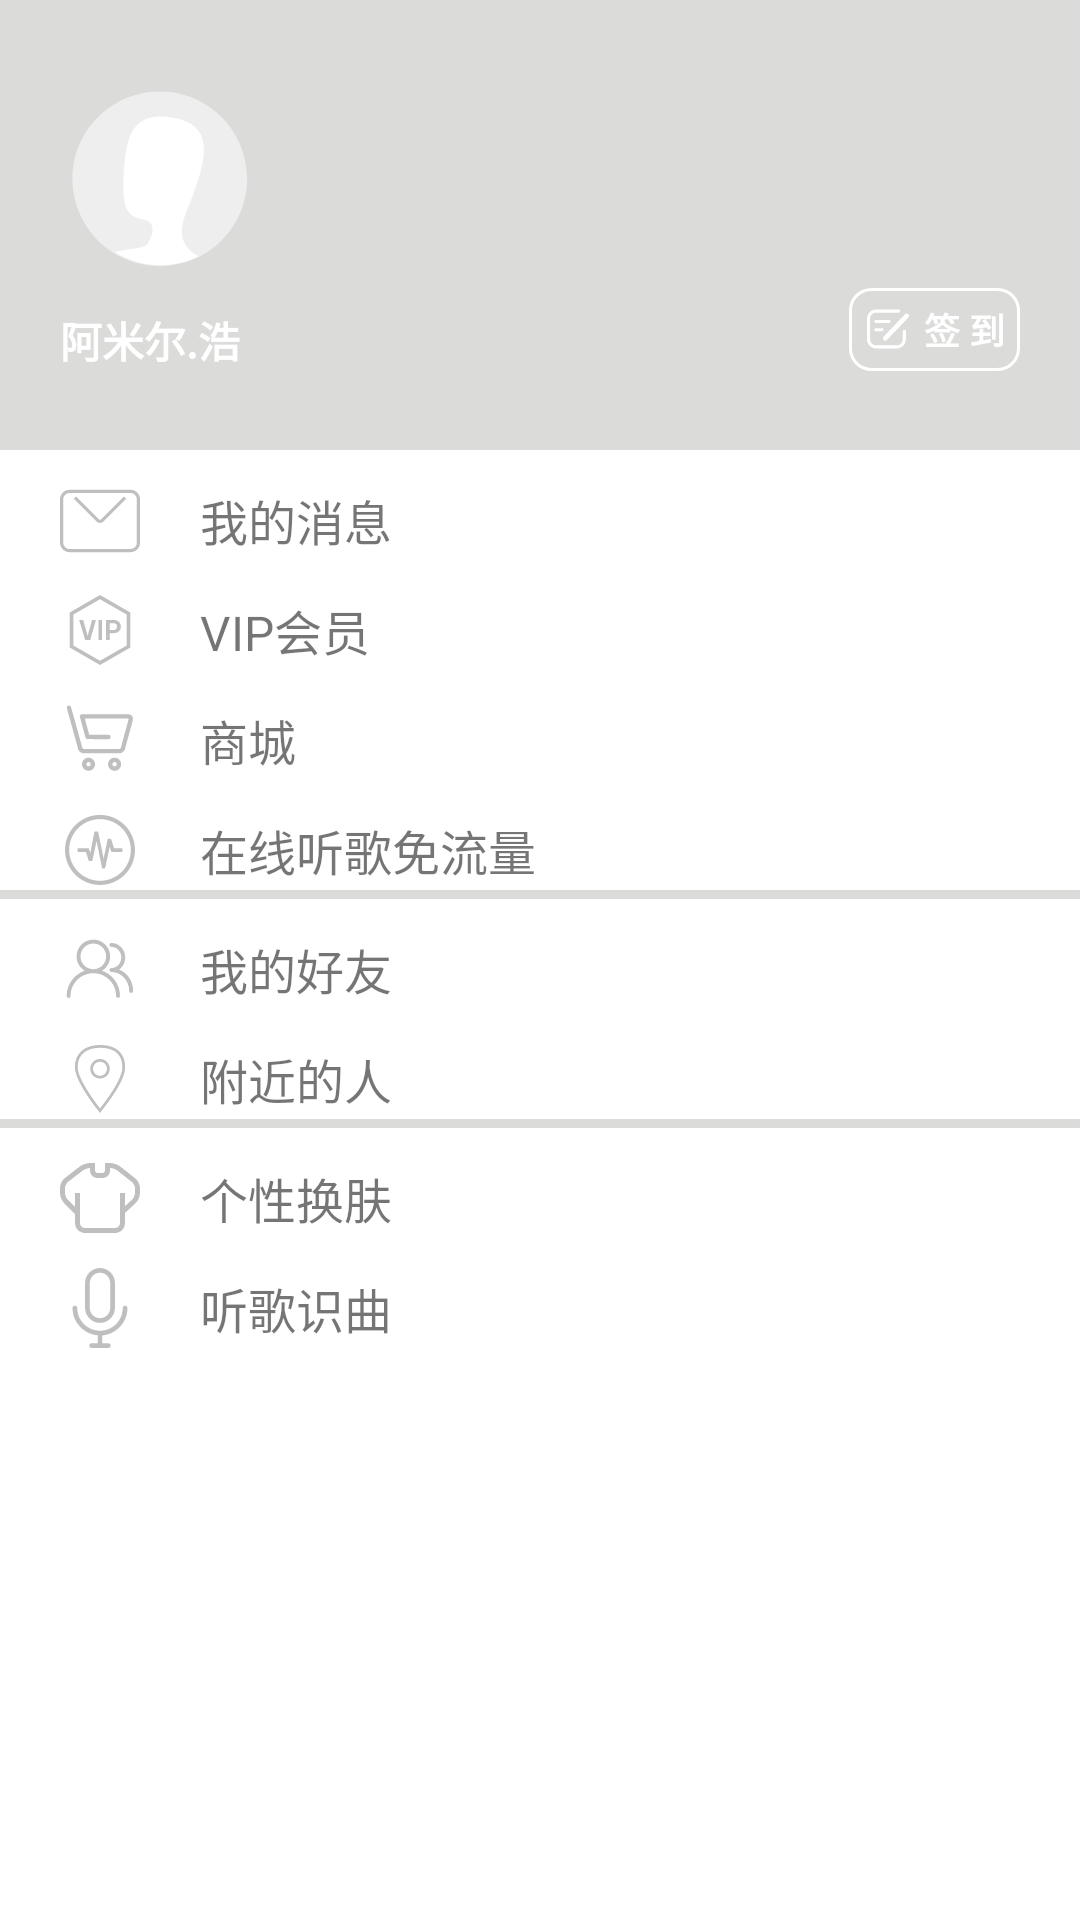

Locate icon controls on the screen. Image size 1080x1920, boxes as (left=x1, top=y1, right=x2, bottom=y2).
login head: (left=115, top=116, right=204, bottom=265)
